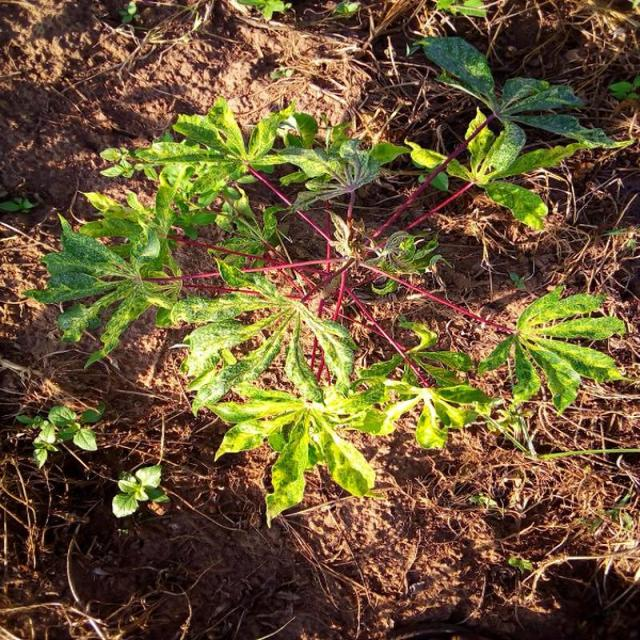cassava leaf: (25, 35, 632, 528), (478, 283, 626, 415)
